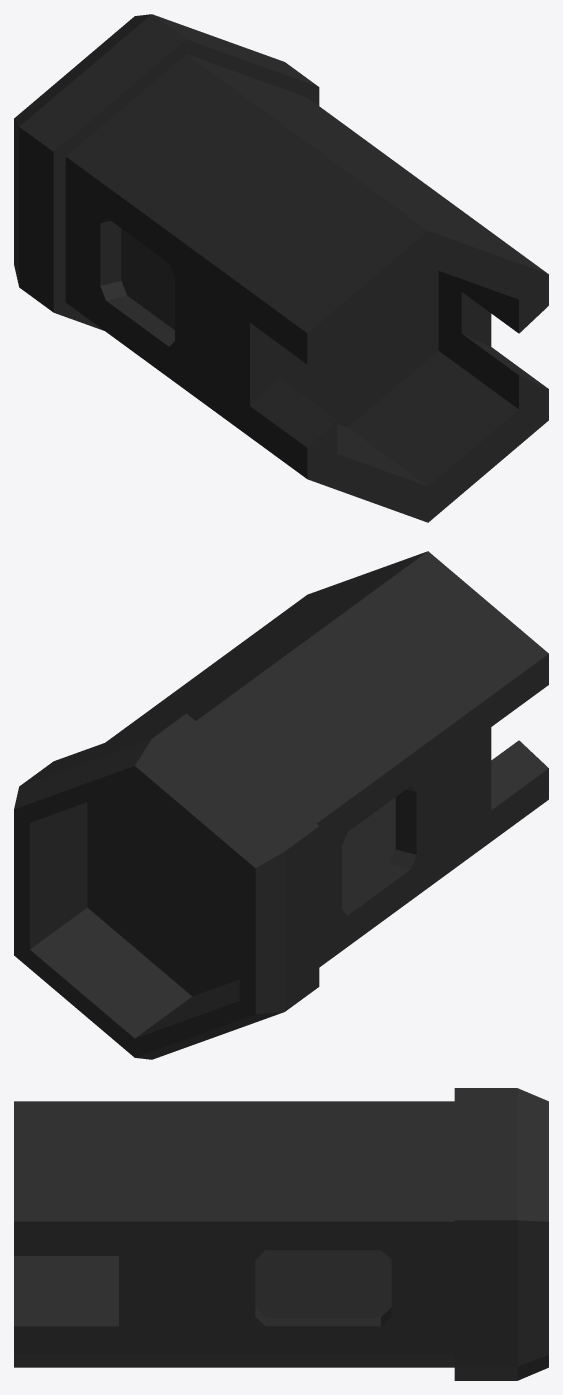
File: Muzzle_ShotGun_Flash Hider_A.fbx
The picture shows the model from 3 angles, top to bottom: view 1: azimuth 30°, elevation 25°; view 2: azimuth 150°, elevation 25°; view 3: azimuth 270°, elevation 25°; orthographic projection. The views are drawn at different scales.
Parts seen in each view (by area): view 1: Muzzle_ShotGun_Flash Hider_A; view 2: Muzzle_ShotGun_Flash Hider_A; view 3: Muzzle_ShotGun_Flash Hider_A.
Boxes of the visible parts, bbox=[...] form: Muzzle_ShotGun_Flash Hider_A: bbox=[14, 14, 548, 522]; Muzzle_ShotGun_Flash Hider_A: bbox=[14, 551, 548, 1059]; Muzzle_ShotGun_Flash Hider_A: bbox=[14, 1088, 548, 1380].
Bounding box in the file's own units: 0.0333 × 0.0385 × 0.0637.
